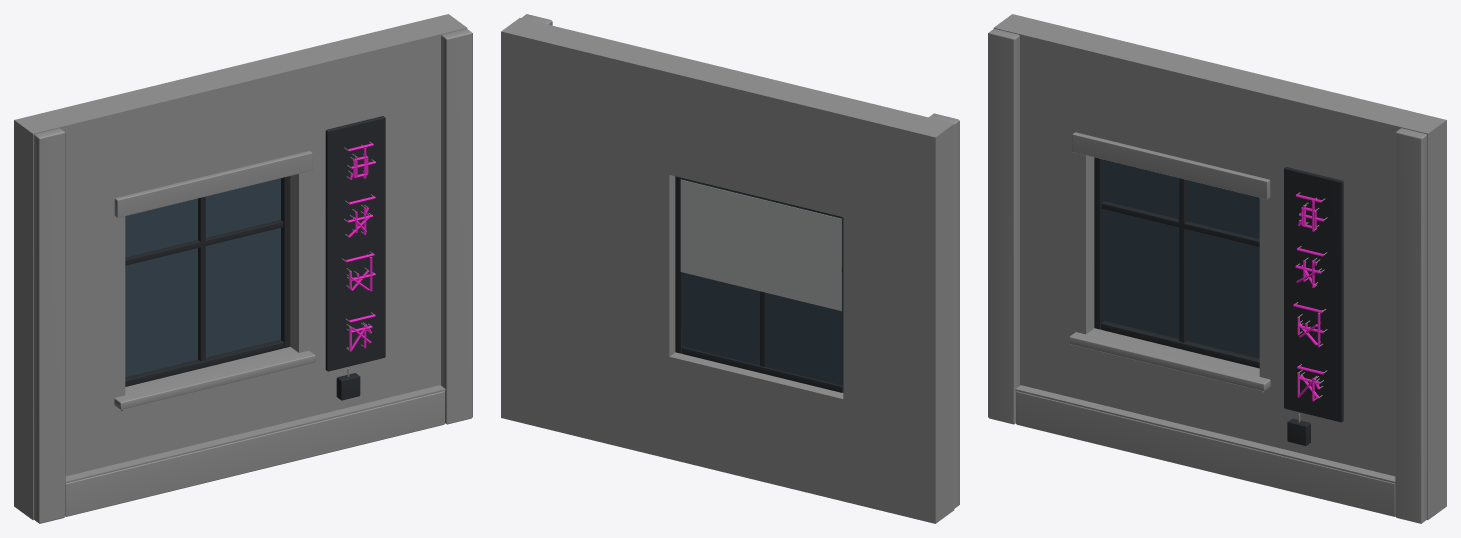
Rendered from Building_Facade_Brick_Window_Neon.fbx.
The picture shows the model from 3 angles, left to right: view 1: azimuth 30°, elevation 25°; view 2: azimuth 150°, elevation 25°; view 3: azimuth 330°, elevation 25°; orthographic projection.
Visible parts, largest first — view 1: Building_Facade_Brick_Window_Neon_LOD0; view 2: Building_Facade_Brick_Window_Neon_LOD0; view 3: Building_Facade_Brick_Window_Neon_LOD0.
Boxes of the visible parts, <box> form: Building_Facade_Brick_Window_Neon_LOD0: <box>14,14,472,523</box>; Building_Facade_Brick_Window_Neon_LOD0: <box>501,14,959,523</box>; Building_Facade_Brick_Window_Neon_LOD0: <box>988,14,1446,523</box>.
Size of what is drawn, in the model's own units: 4 by 3.4 by 0.42.
